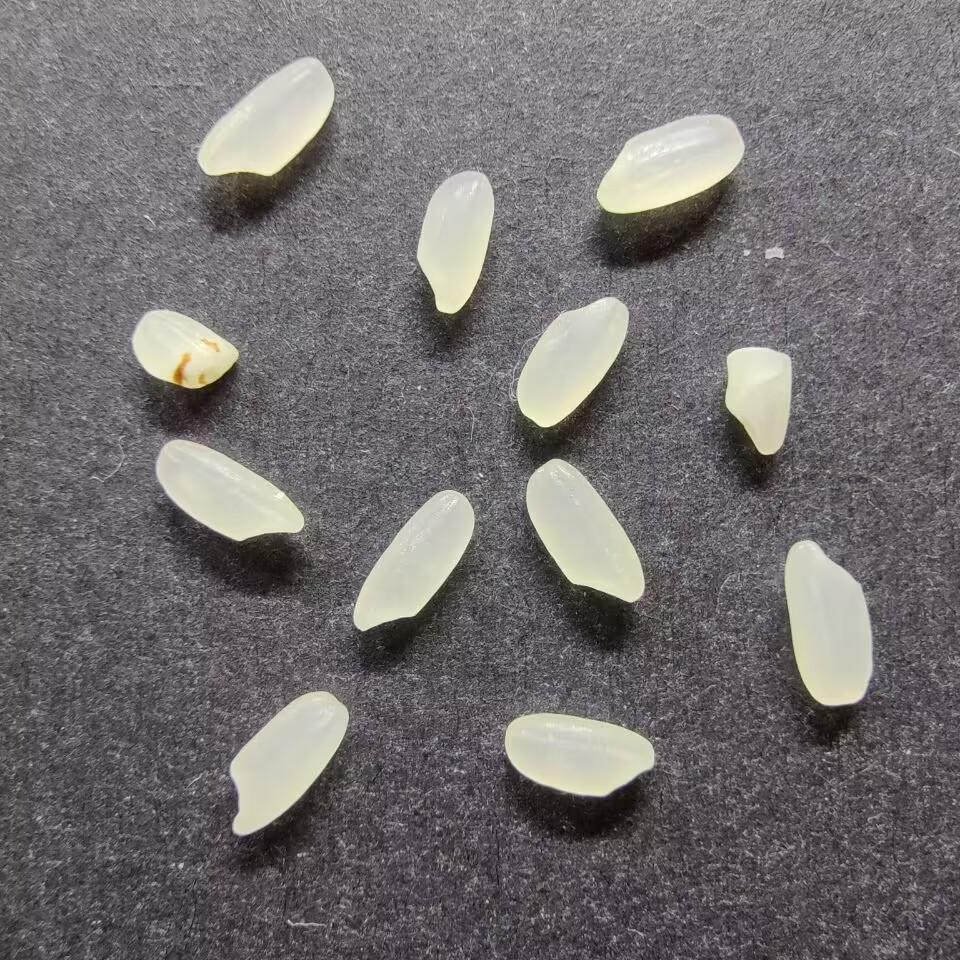broken: (130, 306, 241, 389), (724, 345, 793, 459)
rice: (228, 689, 350, 839), (523, 457, 646, 605), (352, 487, 476, 631), (195, 57, 336, 177), (153, 438, 306, 543), (782, 538, 875, 707), (594, 111, 744, 214), (514, 294, 629, 428), (502, 711, 657, 799), (414, 169, 495, 315)
